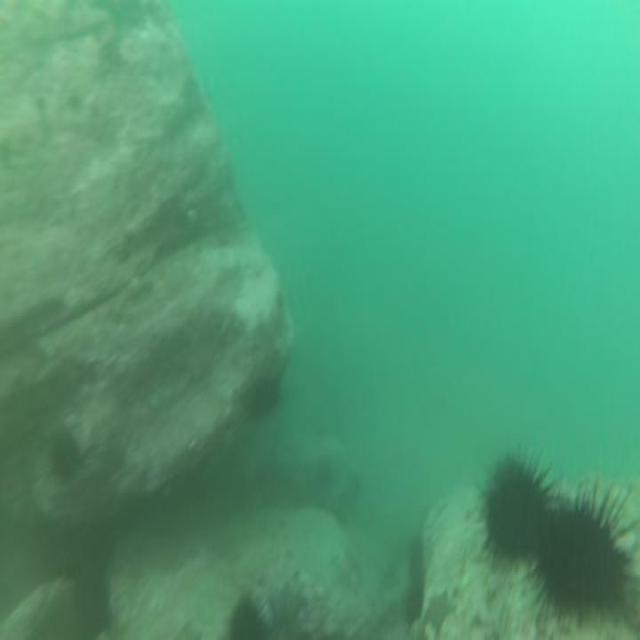echinus: (520, 477, 638, 626), (474, 442, 559, 570), (73, 565, 111, 640), (44, 425, 86, 488), (223, 591, 270, 640), (252, 367, 282, 422), (405, 534, 427, 585), (402, 580, 426, 626)
starfish: (266, 576, 308, 634), (424, 588, 457, 635), (172, 616, 205, 640)
